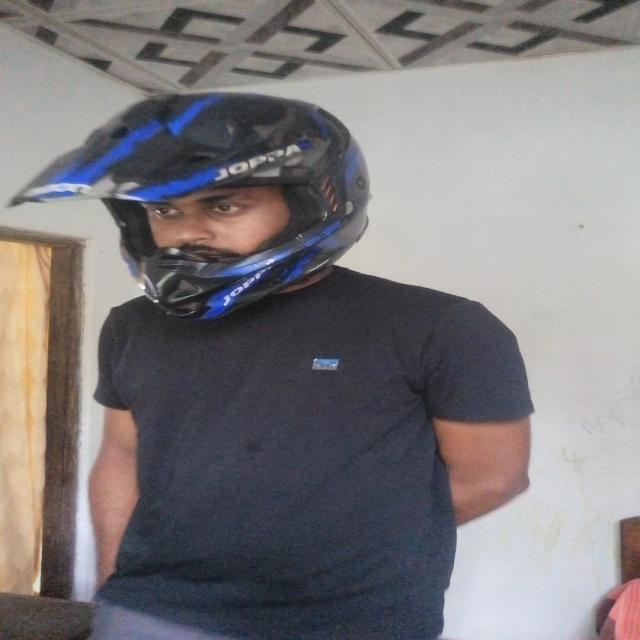Helmet_Wearer: (12, 75, 397, 334)
Person: (48, 107, 521, 640)
